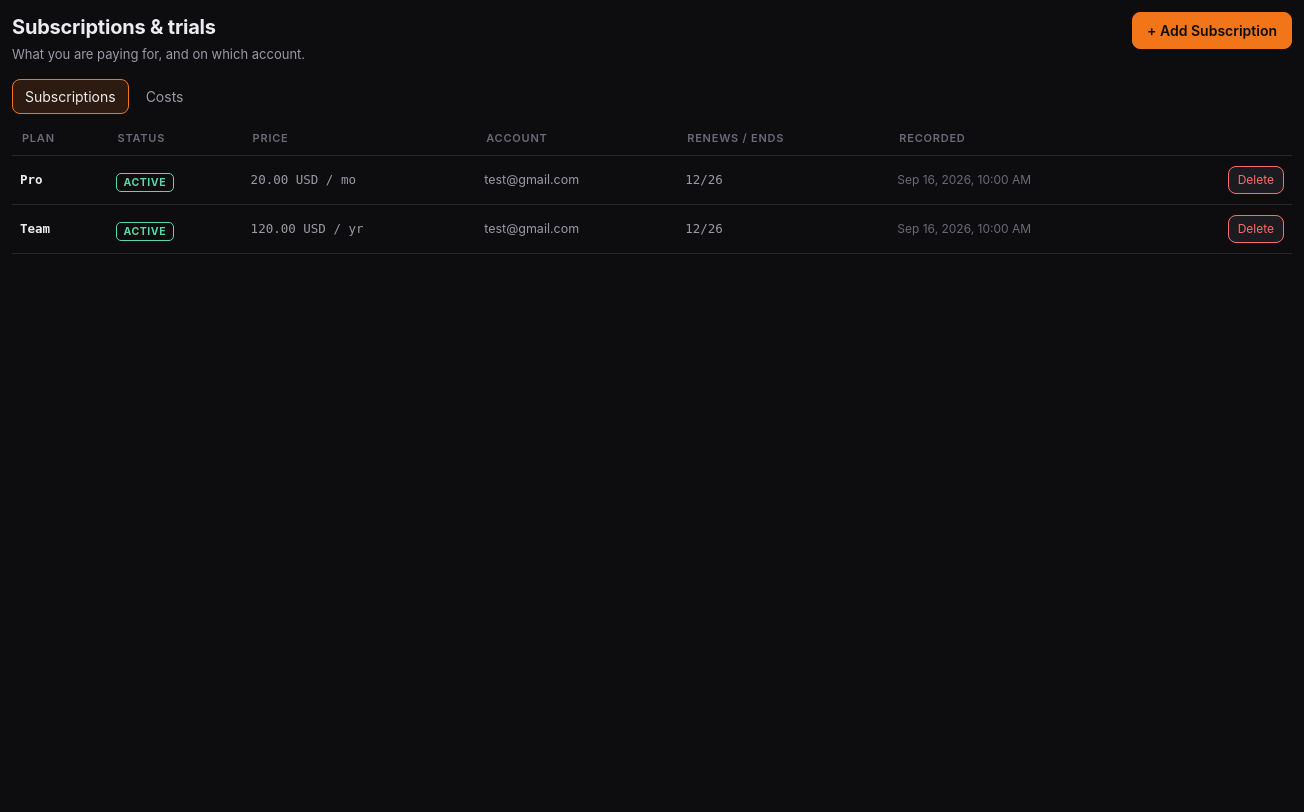
Subscriptions screen › adds the costs up on their own tab, ticking through the month
Click the tab "Costs": (164, 96) [133, 78, 196, 114]
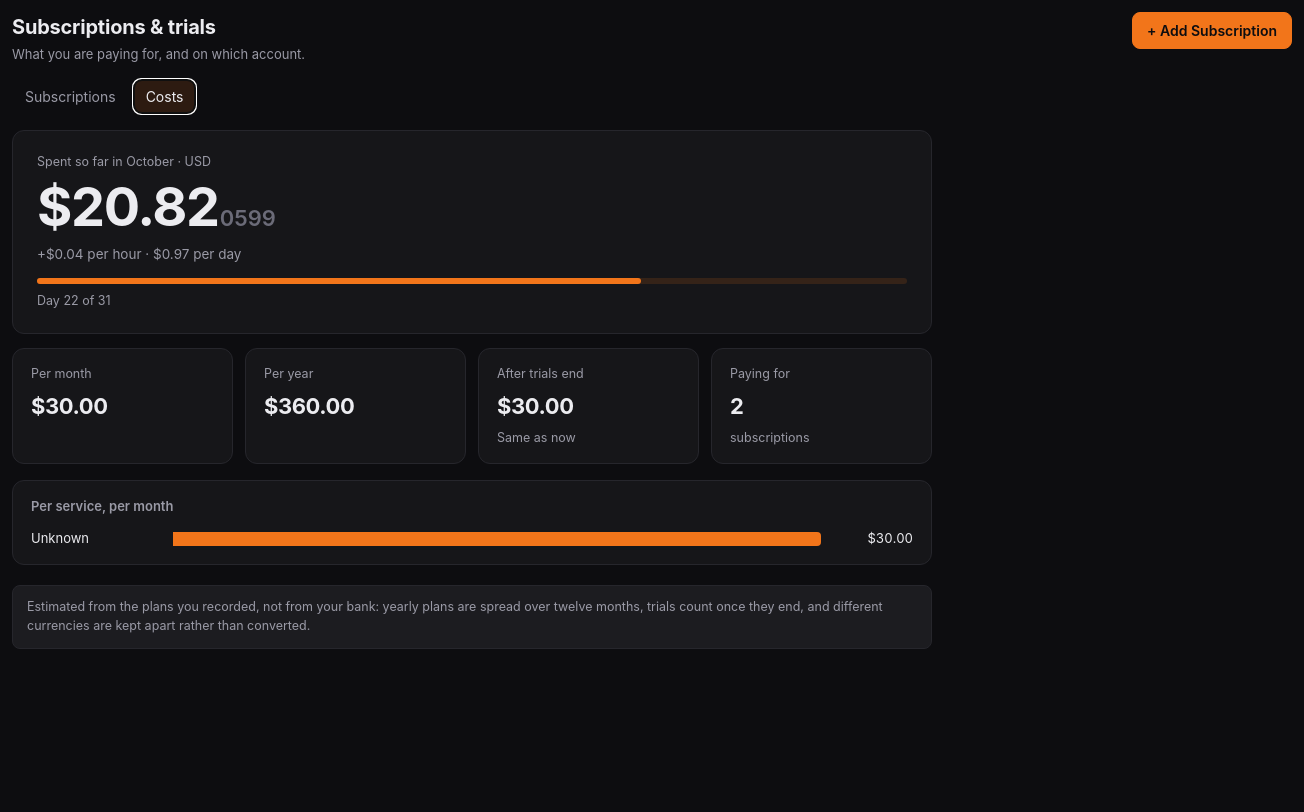
Now the 1st text "$30.00" is shown, box [31, 393, 108, 419]
Now the text "$360.00" is shown, box [264, 393, 354, 419]
Now the text "Spent so far in October · USD" is shown, box [37, 154, 211, 168]
